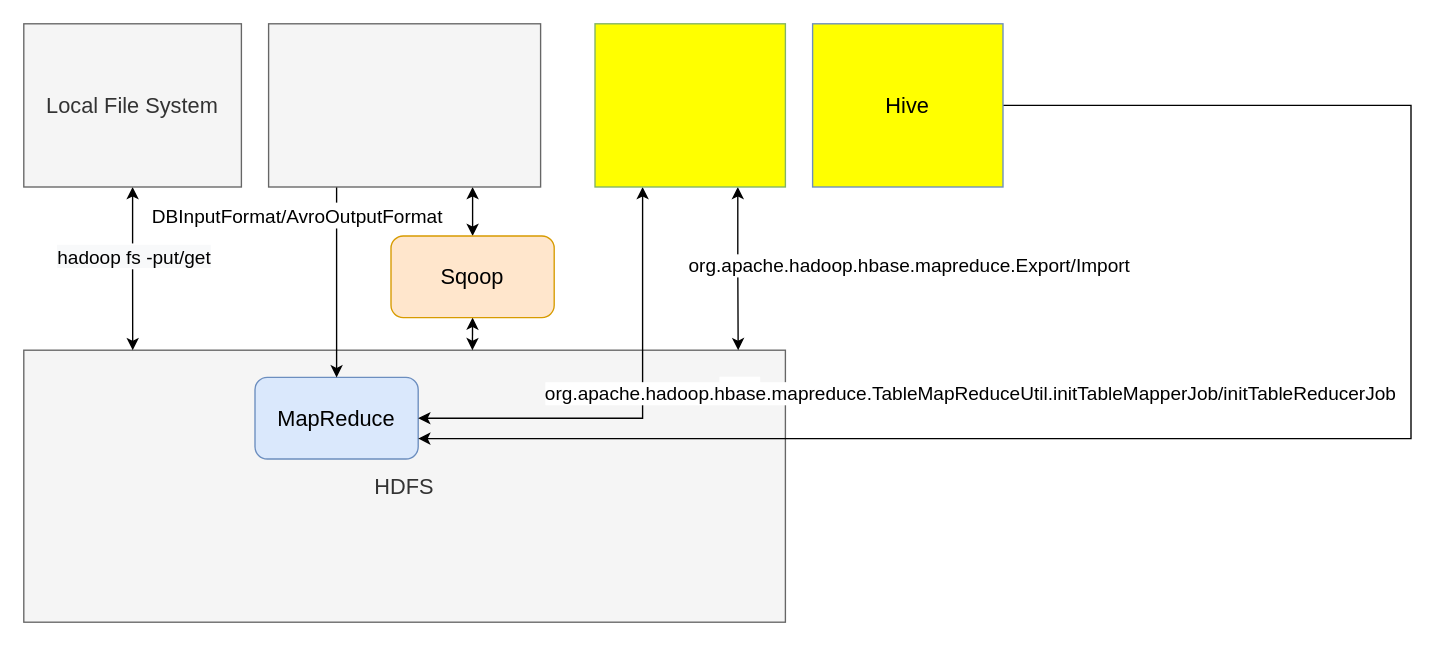
The diagram is 1446 pixels wide and 646 high, and some of its shapes have lost their labels. Each missing label, with the centre of its shape:
HBase: [689,104]
MySQL/PostgreSQL: [404,104]
